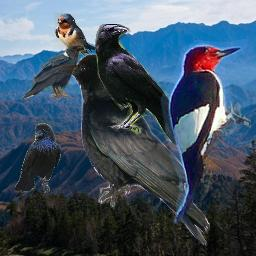Crow: (54, 53, 210, 246), (95, 24, 190, 147), (20, 43, 86, 102), (15, 123, 61, 193)
Swallow: (54, 13, 97, 67)
Woodpecker: (153, 33, 251, 224)
